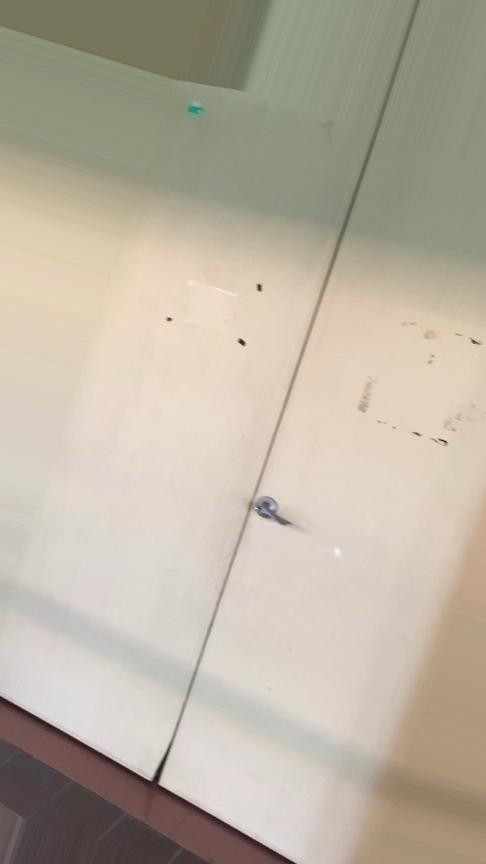door: (150, 0, 486, 864)
